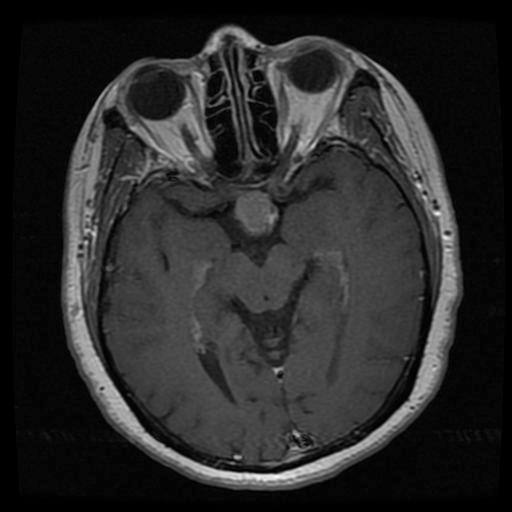Tumour-Pituitary: (227, 184, 286, 241)
